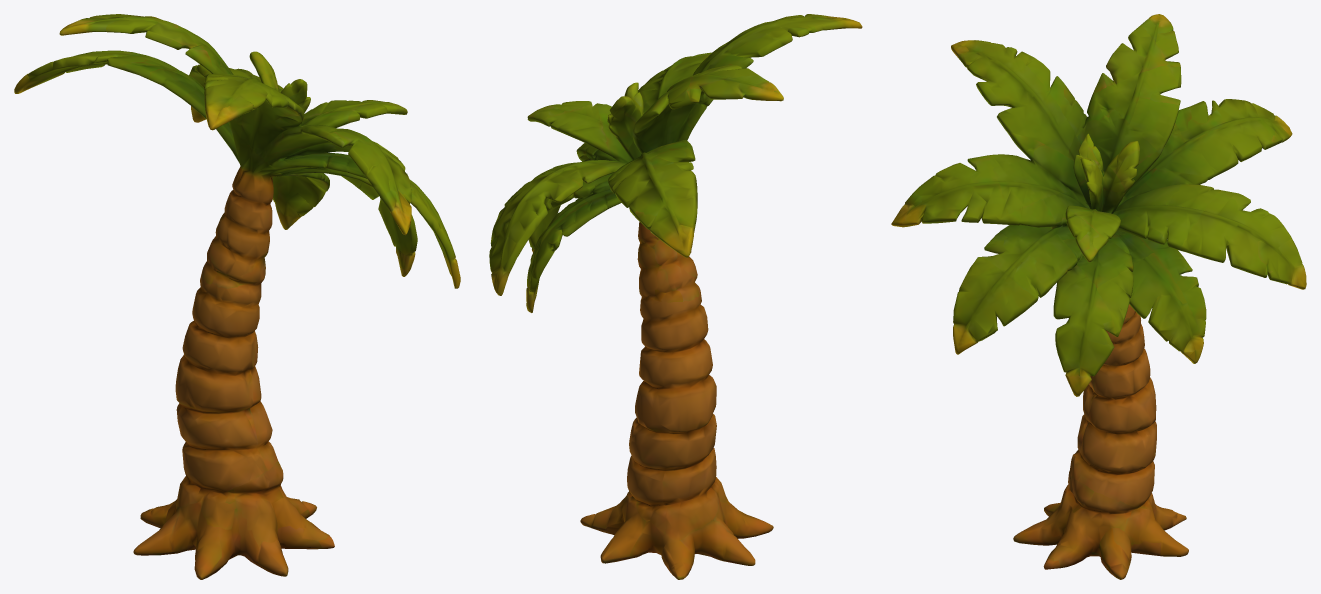
Rendered from tr03-tidepalm.glb.
The picture shows the model from 3 angles, left to right: view 1: azimuth 30°, elevation 25°; view 2: azimuth 150°, elevation 25°; view 3: azimuth 270°, elevation 25°; orthographic projection. The views are drawn at different scales.
Visible parts, largest first — view 1: tripo_node_dbbd7f04-0e4c-481a-bb0c-40aaf8bd627f; view 2: tripo_node_dbbd7f04-0e4c-481a-bb0c-40aaf8bd627f; view 3: tripo_node_dbbd7f04-0e4c-481a-bb0c-40aaf8bd627f.
Part boxes in pixels (x1=…): tripo_node_dbbd7f04-0e4c-481a-bb0c-40aaf8bd627f: x1=14, y1=14, x2=460, y2=579; tripo_node_dbbd7f04-0e4c-481a-bb0c-40aaf8bd627f: x1=489, y1=14, x2=862, y2=579; tripo_node_dbbd7f04-0e4c-481a-bb0c-40aaf8bd627f: x1=891, y1=14, x2=1306, y2=579.
Size of the model in its own units: 0.6121 by 0.9996 by 0.8006.
1 material, 1 textured.
